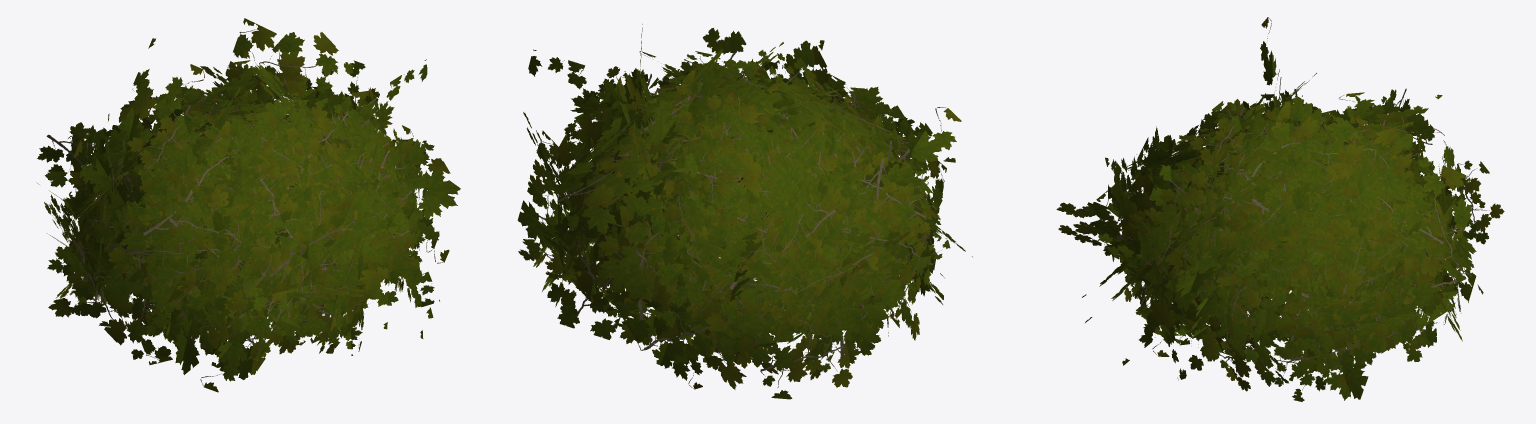
Rendered from pv_bush_low.fbx.
The picture shows the model from 3 angles, left to right: view 1: azimuth 30°, elevation 25°; view 2: azimuth 150°, elevation 25°; view 3: azimuth 270°, elevation 25°; orthographic projection. The views are drawn at different scales.
Visible parts, largest first — view 1: pv_bush_low_LOD0; view 2: pv_bush_low_LOD0; view 3: pv_bush_low_LOD0.
Boxes of the visible parts, x1,y1,x2,y2 form: pv_bush_low_LOD0: (36, 18, 460, 392); pv_bush_low_LOD0: (517, 24, 972, 399); pv_bush_low_LOD0: (1056, 17, 1504, 401).
Size of what is drawn, in the model's own units: 2.16 by 1.36 by 2.13.
